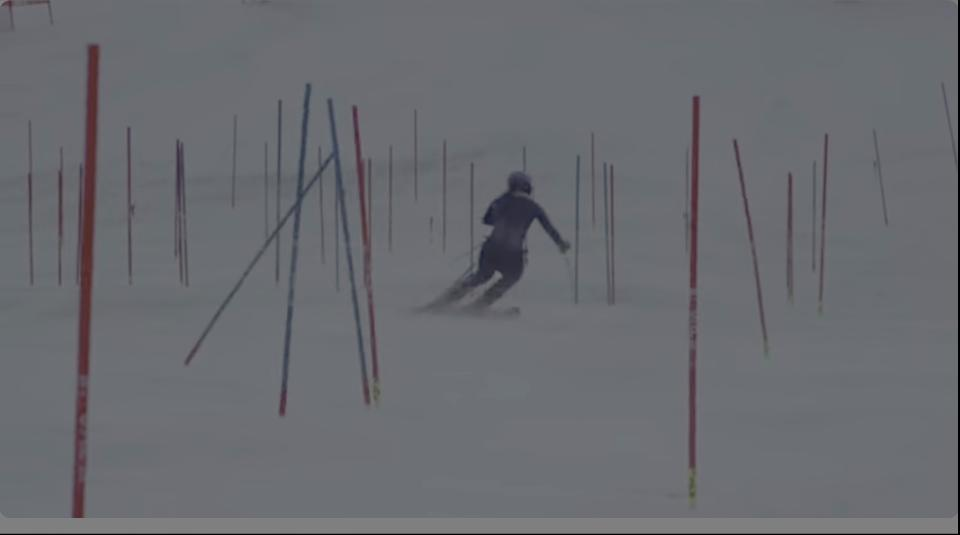gate: (48, 33, 141, 535), (665, 87, 716, 510), (282, 69, 321, 444)
